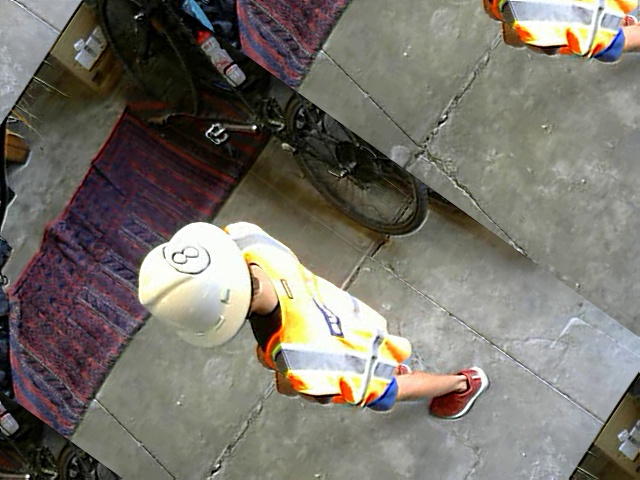eight: (156, 224, 218, 285)
